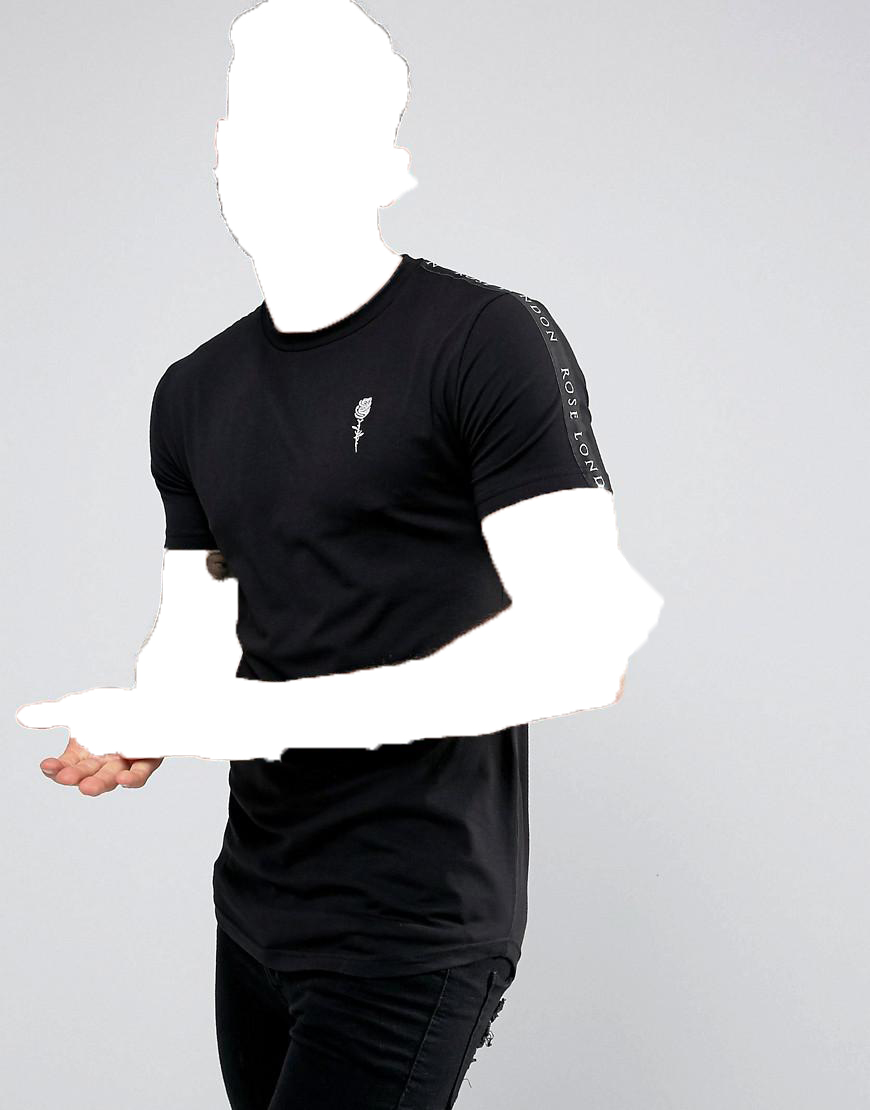teeshirt: (144, 256, 632, 968)
